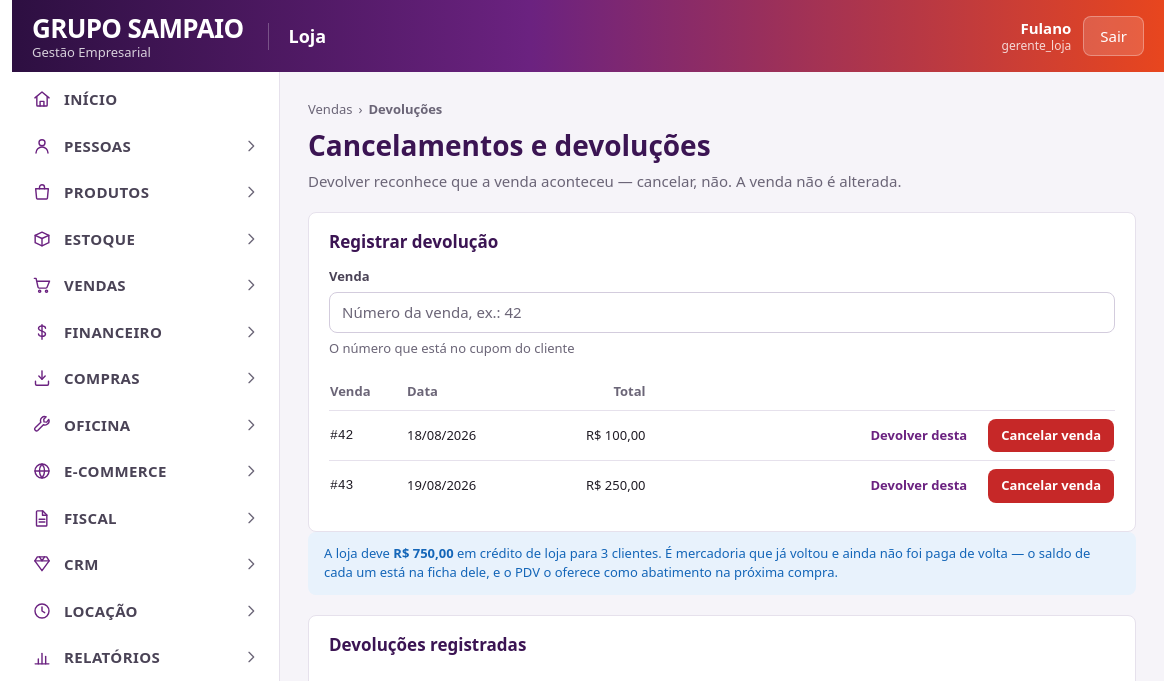
Scenario: o vale precisa de dono › venda anônima: o crédito de loja fica indisponível, e a tela diz por quê
Click the button "Devolver desta" in the row of "42". click: (919, 435)
box: [858,418,980,452]
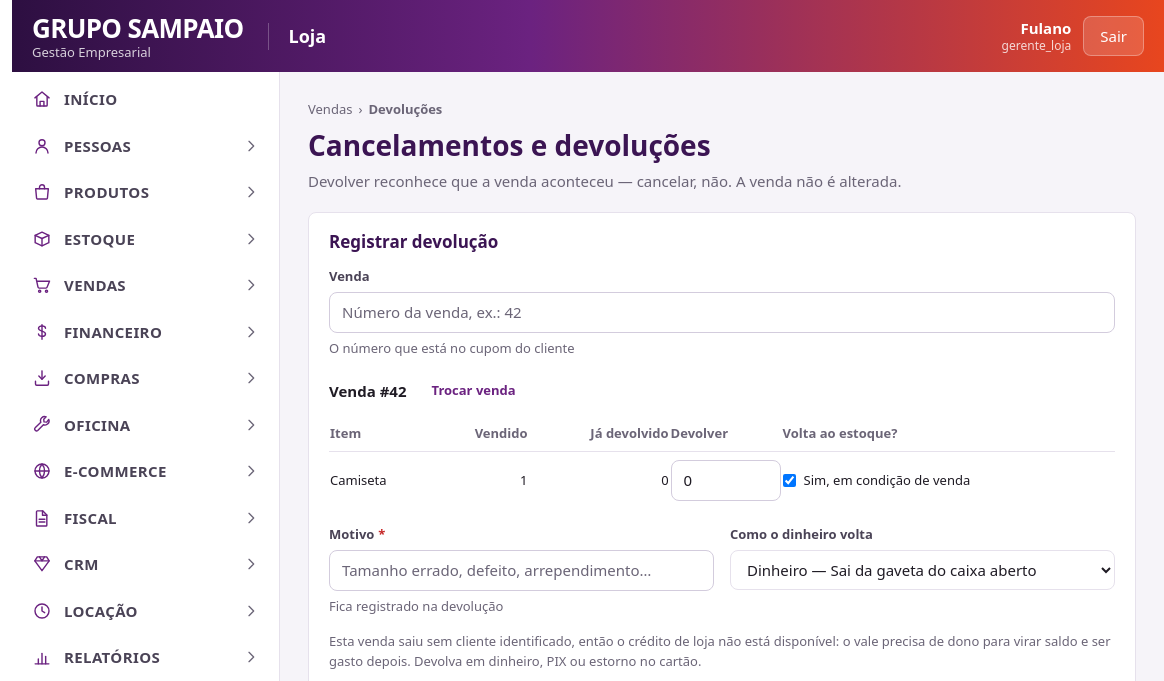
Expected: the text "Camiseta" is shown, [329,452,432,508]
